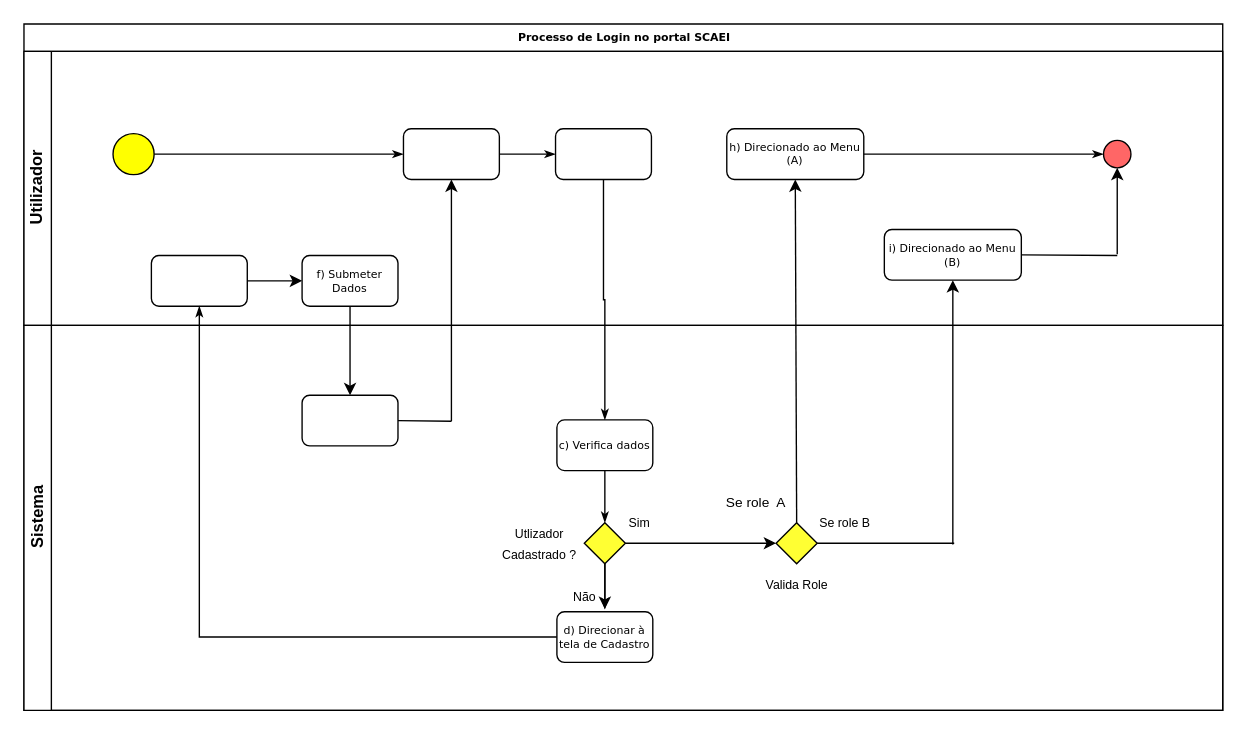
Some shapes in this 1247 by 734 pixel diagram are drawn without their labels. Each missing label, with the box of its shape:
a) Abrir a página de Login do SCAEI: (402, 127, 499, 179)
b) Inserir utilizador e password: (554, 127, 651, 179)
e) Preencher formulário: (150, 254, 247, 306)
g) Insere dados à base de Dados: (301, 394, 398, 446)
